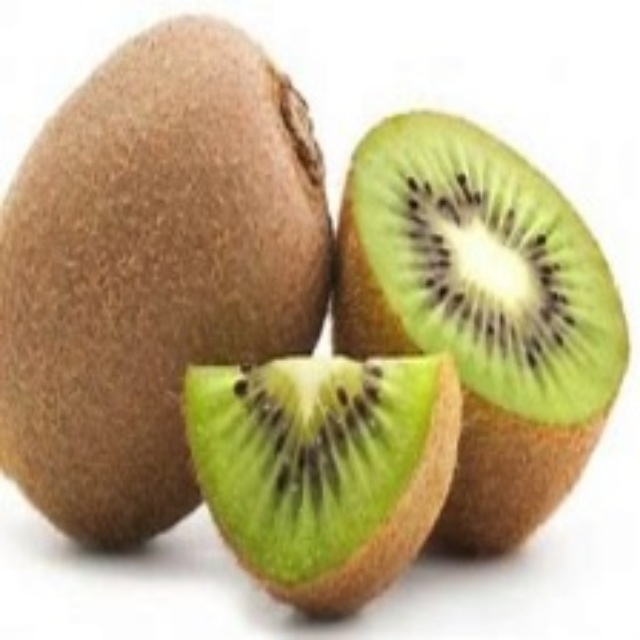kiwi: (3, 17, 350, 551), (338, 99, 629, 560), (164, 342, 476, 611)
